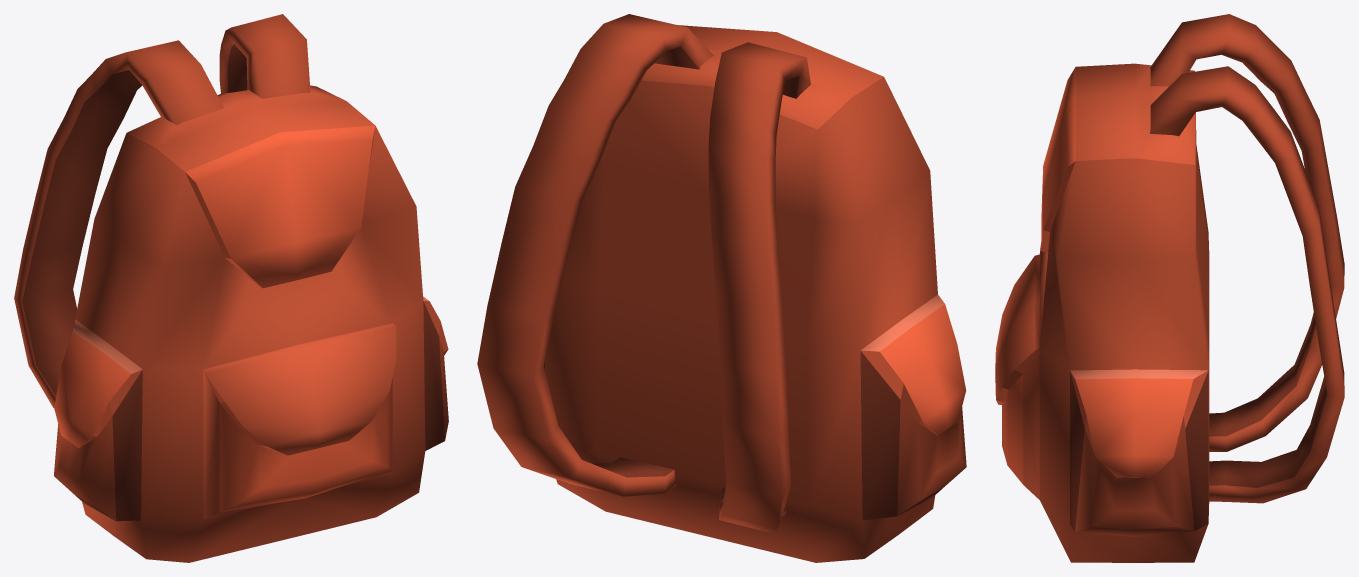
The model's file is SM_BackPack_11.fbx.
3 renders of one model, left to right at view 1: azimuth 30°, elevation 25°; view 2: azimuth 150°, elevation 25°; view 3: azimuth 270°, elevation 25°, orthographic. The views are drawn at different scales.
Parts seen in each view (by area): view 1: SM_BackPack_11; view 2: SM_BackPack_11; view 3: SM_BackPack_11.
Part boxes in pixels (x1,y1,x2,y2): SM_BackPack_11: (14, 14, 448, 562); SM_BackPack_11: (477, 14, 966, 562); SM_BackPack_11: (995, 14, 1344, 562).
Bounding box in the file's own units: 123 × 145 × 100.
